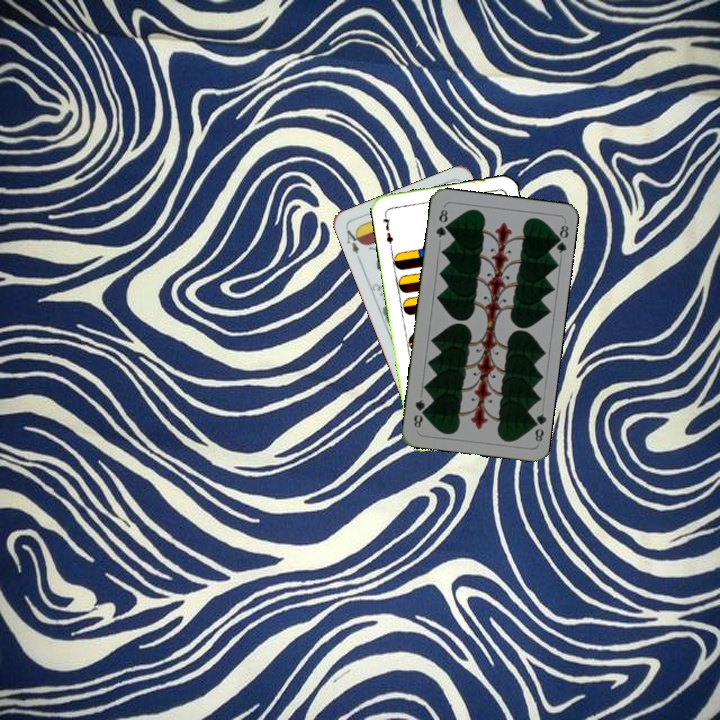E7: (379, 209, 396, 249)
EA: (342, 224, 365, 264)
G8: (527, 409, 548, 444), (432, 205, 451, 240)
